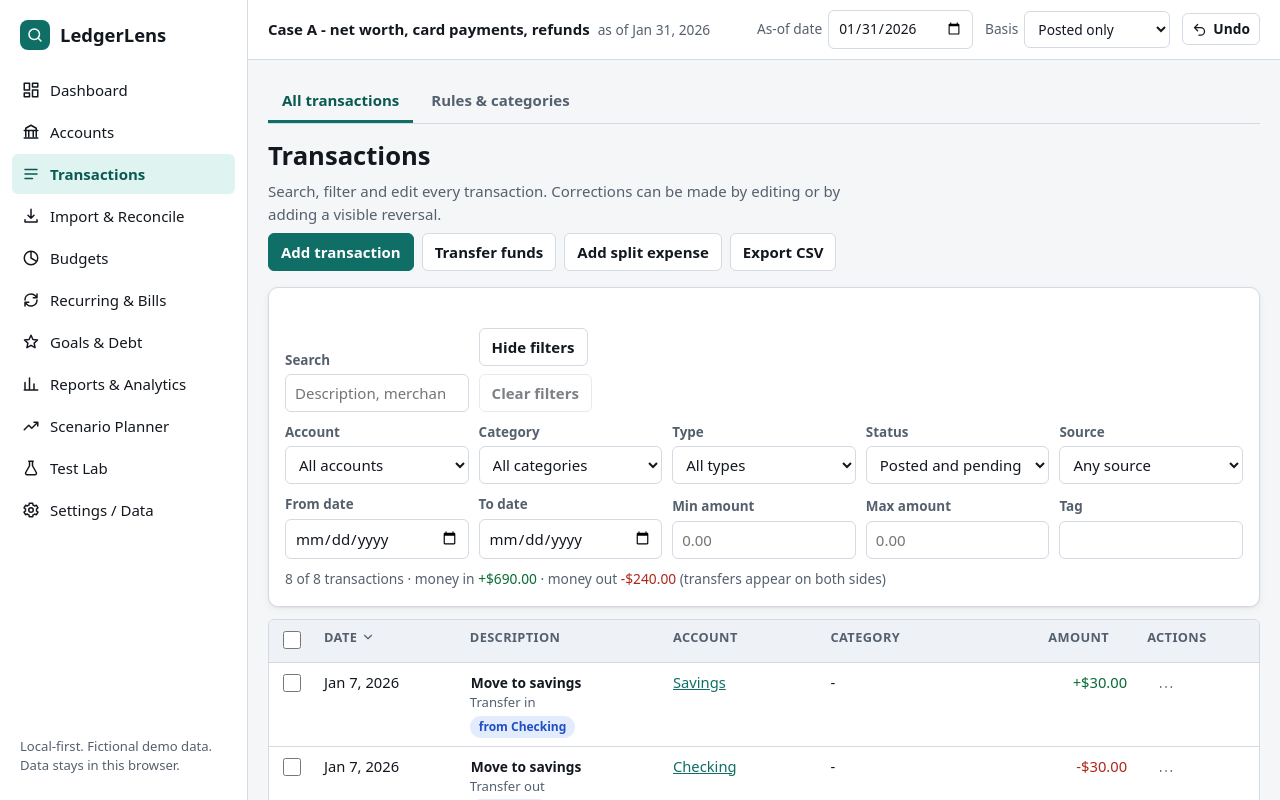
Test: transactions workflow › filters by search text and clears filters
This screenshot has width=1280, height=800.
Expected: the text "8 of 8 transactions" is shown, [285,569,886,588]
Type "Payroll" into the search field labelled "Search" at (377, 393), box [285,374,469,412]
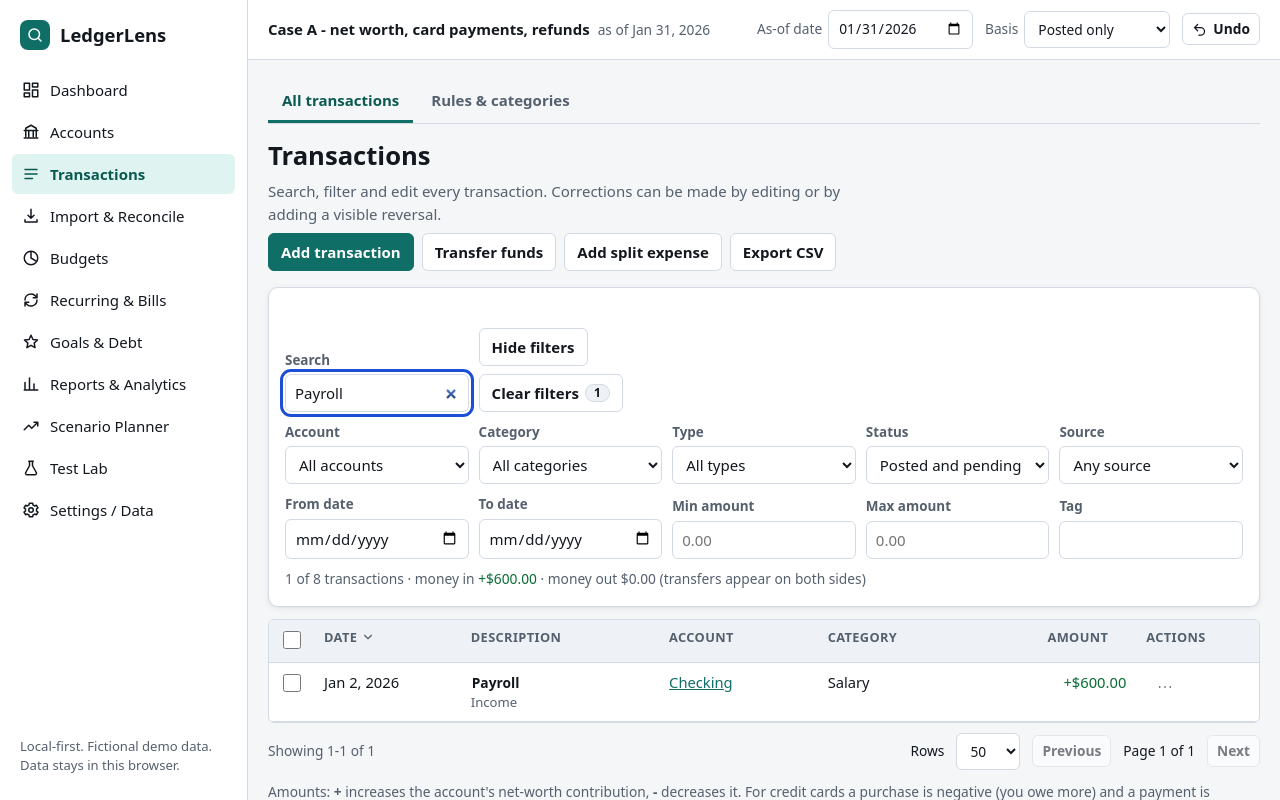
Expected: the text "1 of 8 transactions" is shown, [285,569,866,588]
Click the button "Clear filters 1" at (551, 393), box [479,374,623,412]
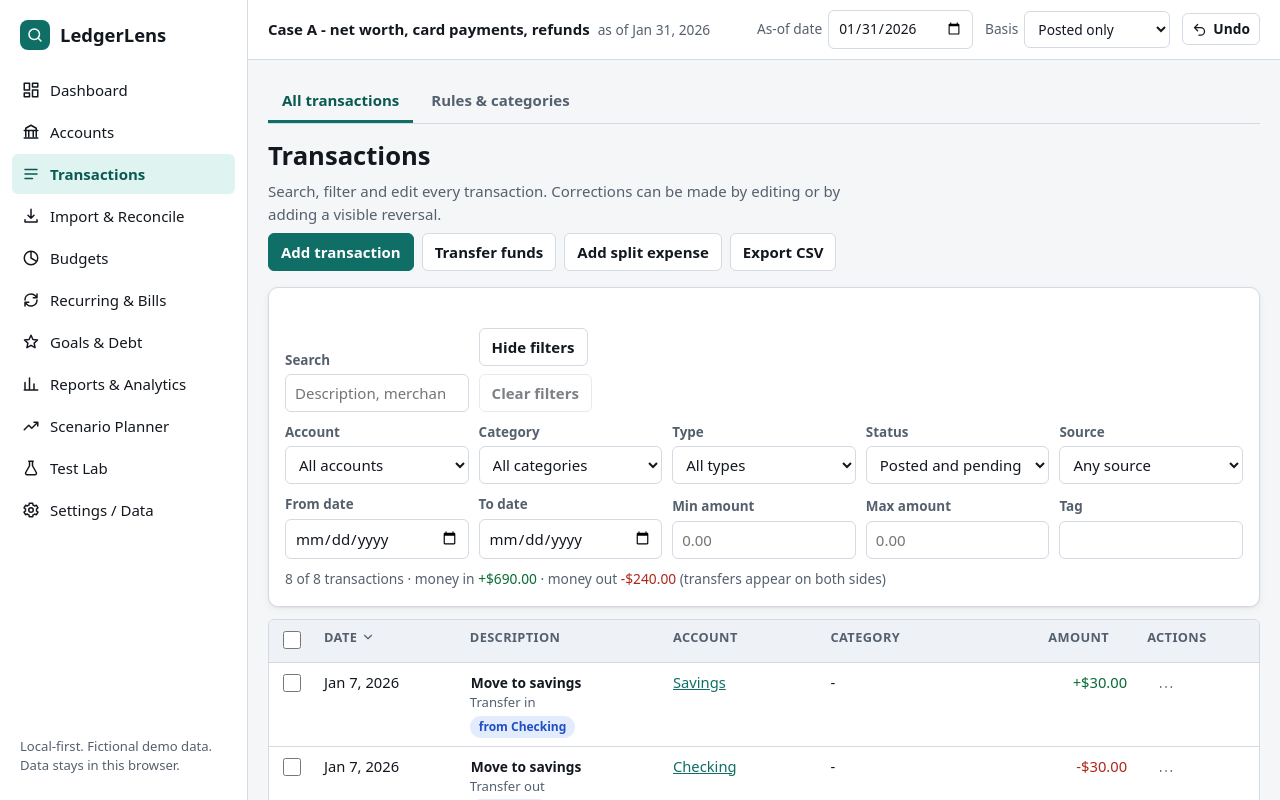
Expected: the text "8 of 8 transactions" is shown, [285,569,886,588]
